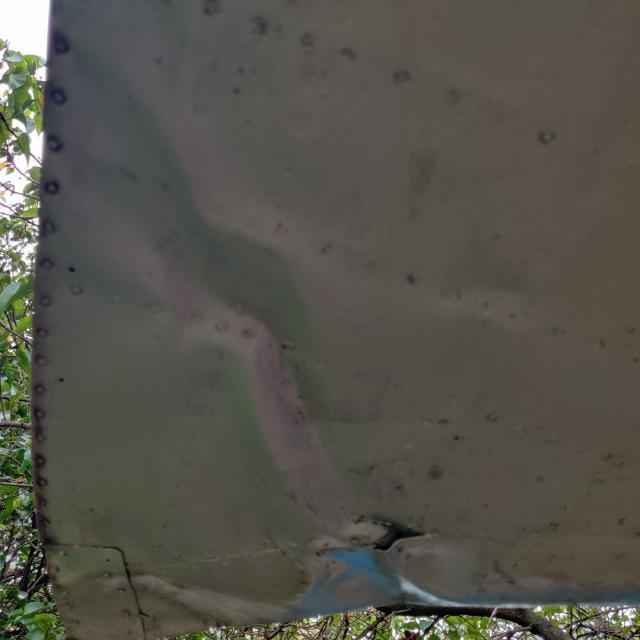crack: (345, 506, 398, 544)
dent: (33, 29, 370, 518), (275, 503, 540, 631), (63, 558, 280, 640)
